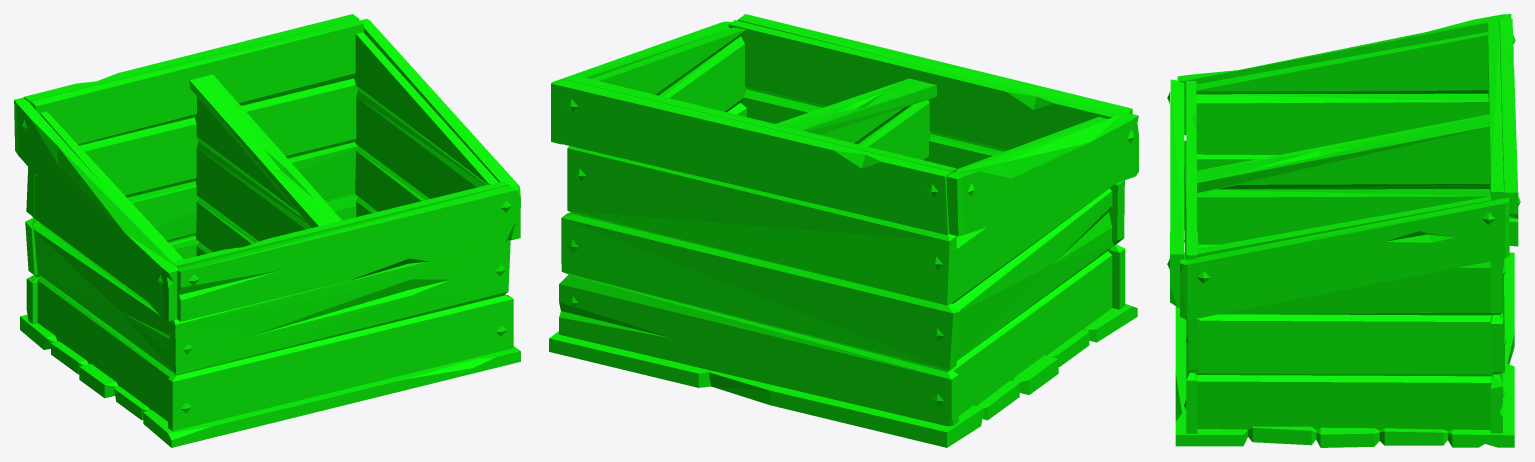
Rendered from SM_Crate_Small_Bevelled_Fantasy.fbx.
3 renders of one model, left to right at view 1: azimuth 30°, elevation 25°; view 2: azimuth 150°, elevation 25°; view 3: azimuth 270°, elevation 25°, orthographic. The views are drawn at different scales.
Visible parts, largest first — view 1: crate-small-bevelled-fantasy; view 2: crate-small-bevelled-fantasy; view 3: crate-small-bevelled-fantasy.
Boxes of the visible parts, box(x1,y1,x2,y2) form: crate-small-bevelled-fantasy: box(14, 14, 520, 447); crate-small-bevelled-fantasy: box(549, 14, 1138, 447); crate-small-bevelled-fantasy: box(1167, 14, 1520, 447).
Size of the model in its own units: 1.06 by 0.6641 by 0.8418.
